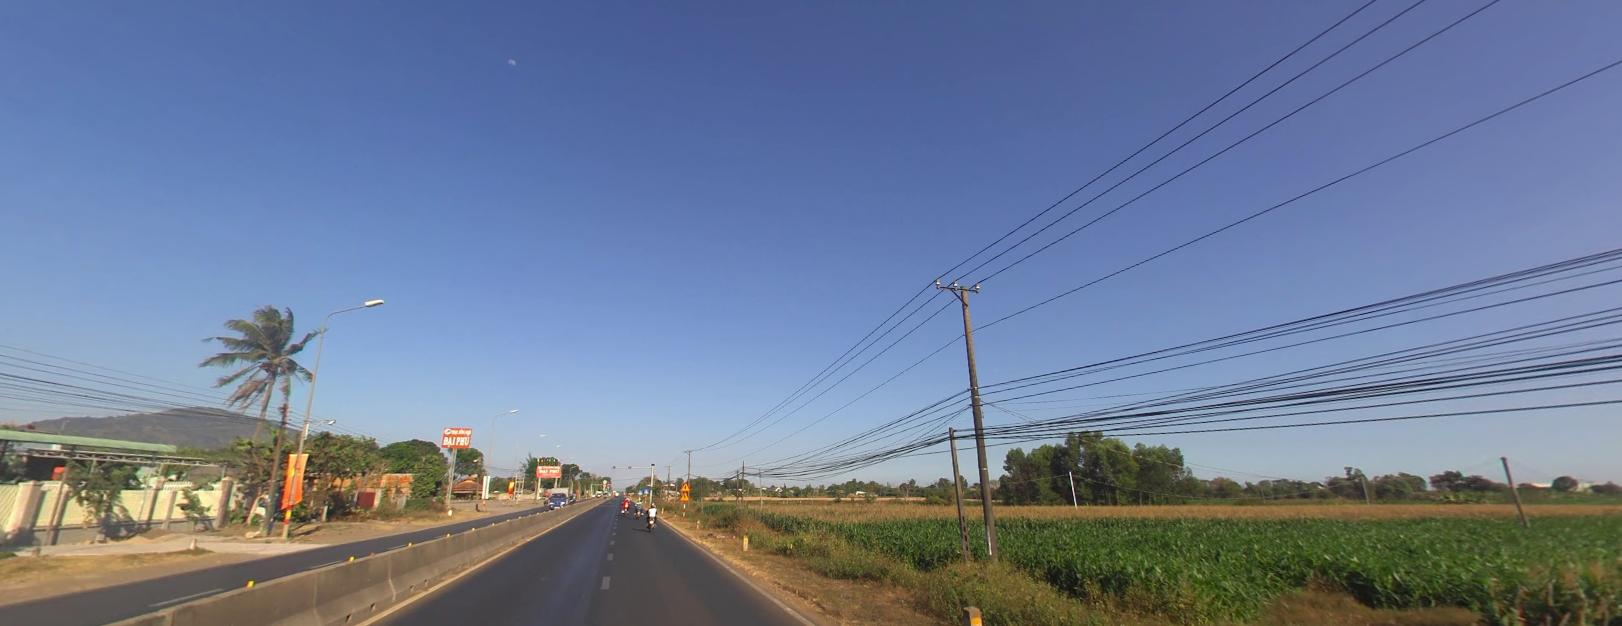Nguy hiem: (678, 481, 690, 491), (678, 491, 690, 500)
